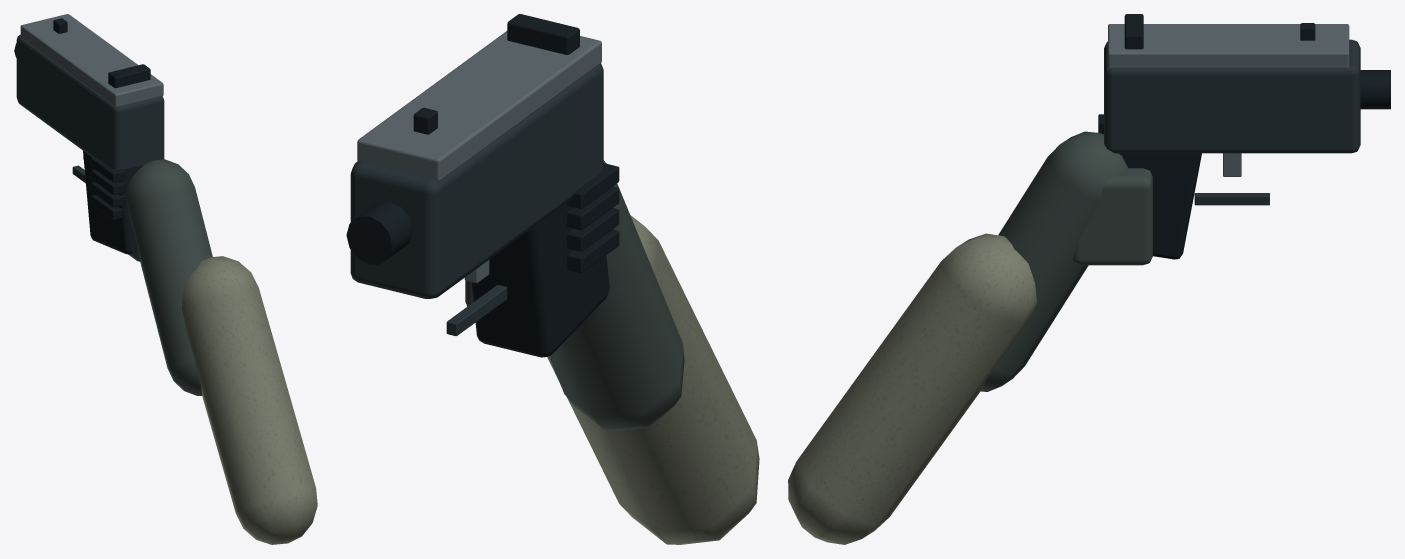
File: weapon-pistol.glb
3 renders of one model, left to right at view 1: azimuth 30°, elevation 25°; view 2: azimuth 150°, elevation 25°; view 3: azimuth 270°, elevation 25°, orthographic. The views are drawn at different scales.
Bounding box in the file's own units: 0.193 × 0.7246 × 0.7986.
Materials: 5 (1 with a texture image).
